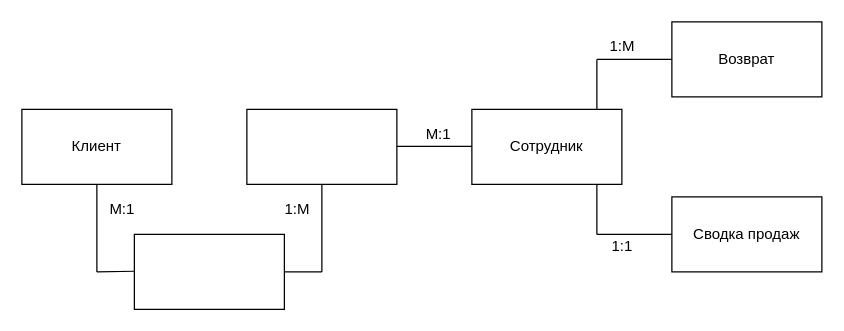
The diagram is 844 pixels wide and 331 high, and some of its shapes have lost their labels. Each missing label, with the centre of its shape:
"Клиент тур" goes at point (208, 271).
"Тур" goes at point (321, 146).
